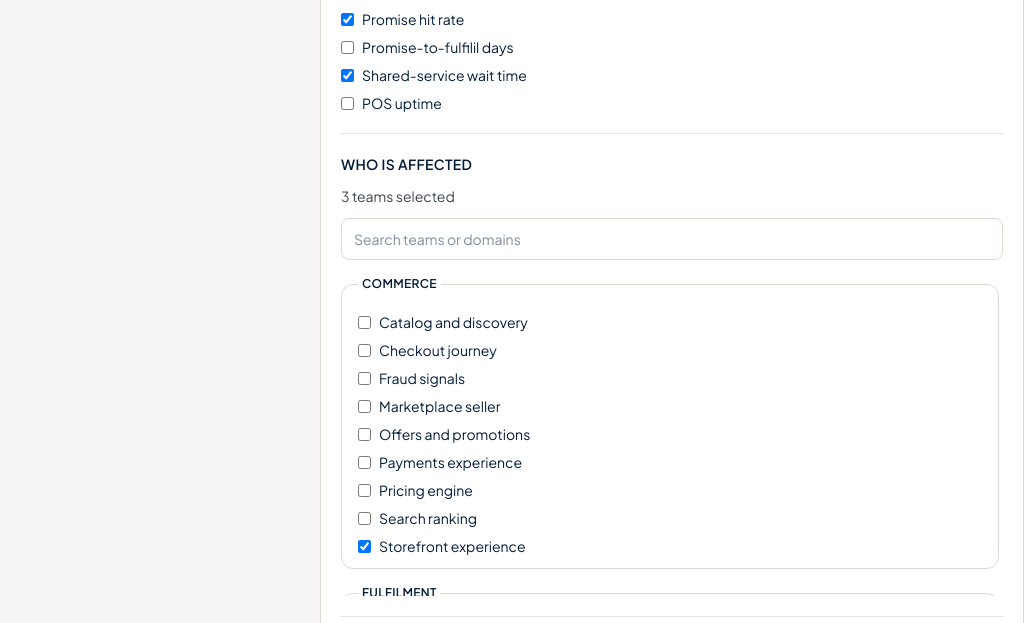
DecisionNotesPage › groups affected teams by domain and filters via search
This screenshot has width=1024, height=623.
(page scrolled)
Expected: the element with test id "decision-affected-groups" is shown, [341,276,1003,596]
Expected: the text "Commerce" is shown, [358,276,441,292]
Type "loyalty" into the search field with test id "decision-affected-search" at {"x": 672, "y": 239}, box [341,218,1003,260]
(page scrolled)
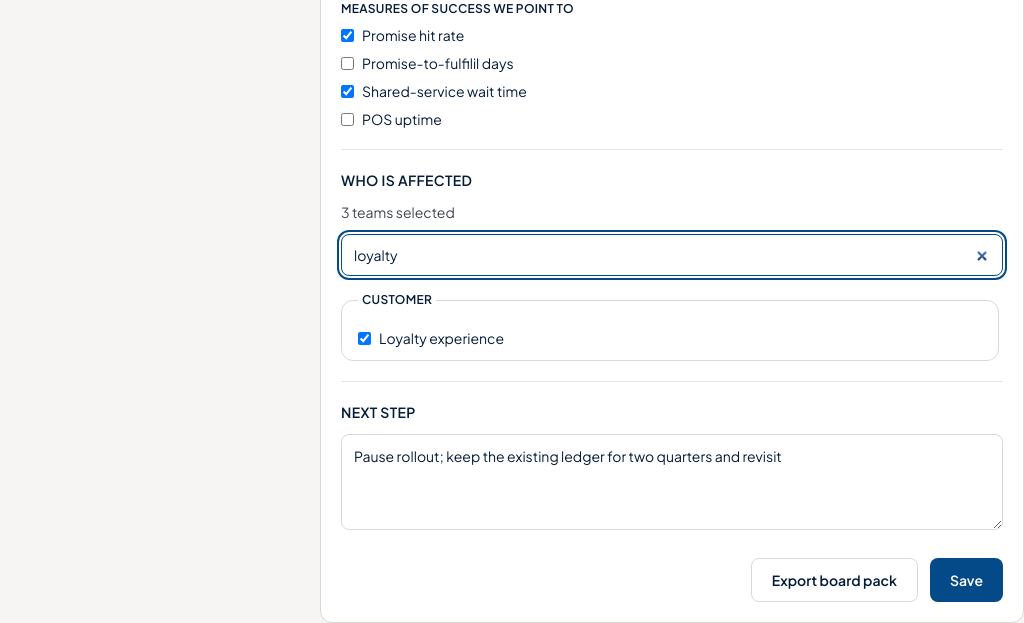
Expected: the checkbox labelled "Loyalty experience" is shown, [358,332,371,345]
Result: the text labelled "Storefront experience" is gone
